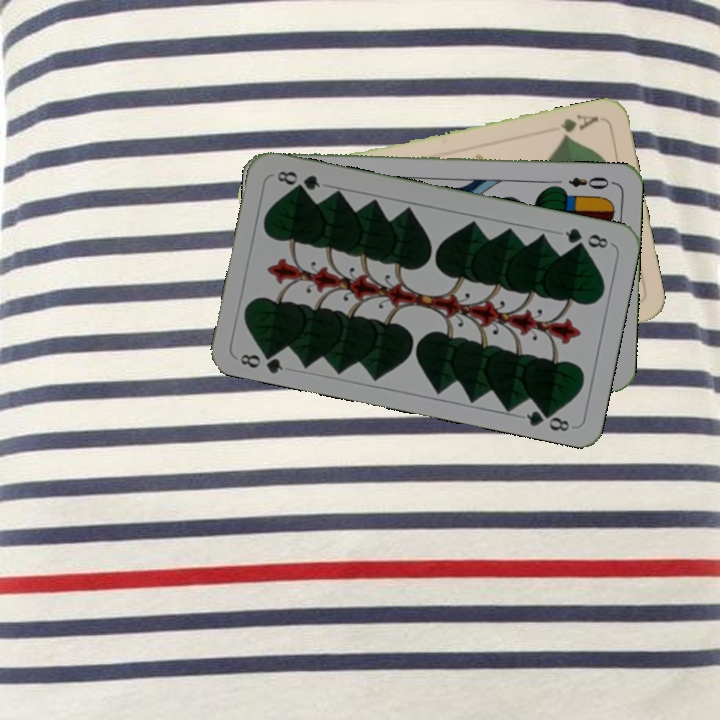EO: (564, 172, 617, 192)
G8: (236, 345, 286, 376), (561, 224, 611, 251)
GA: (556, 110, 601, 141)
